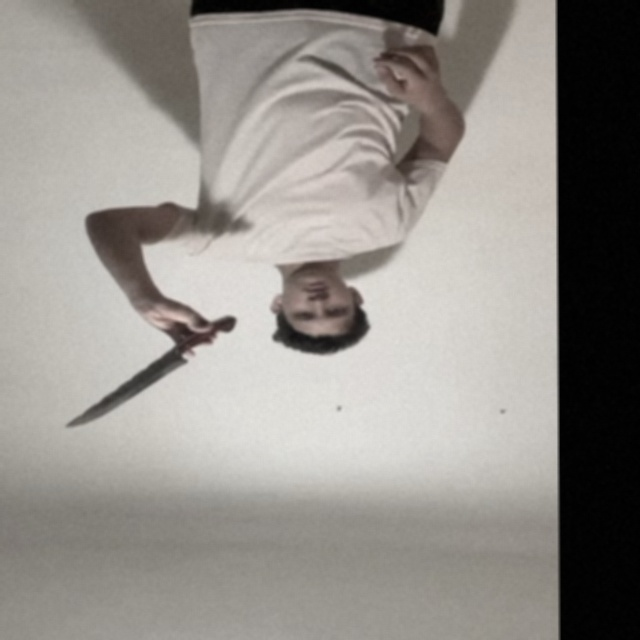Sharp-Object: (66, 356, 191, 427)
